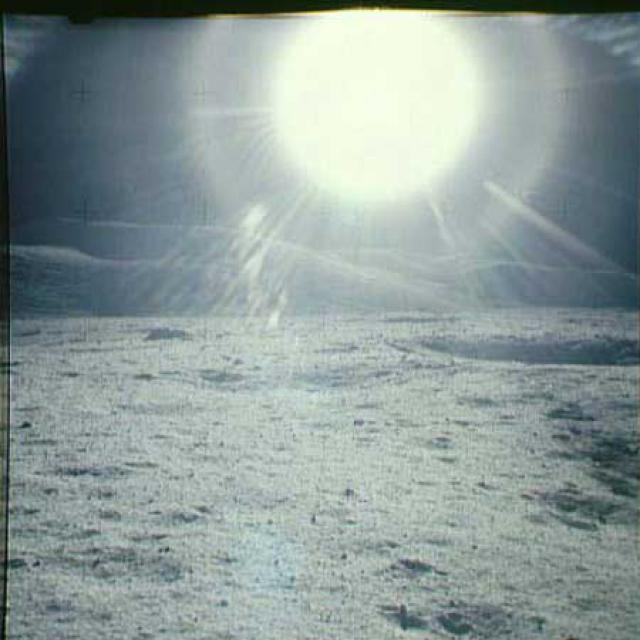crater: (391, 322, 639, 372), (196, 369, 248, 386)
rock: (144, 322, 187, 342)
